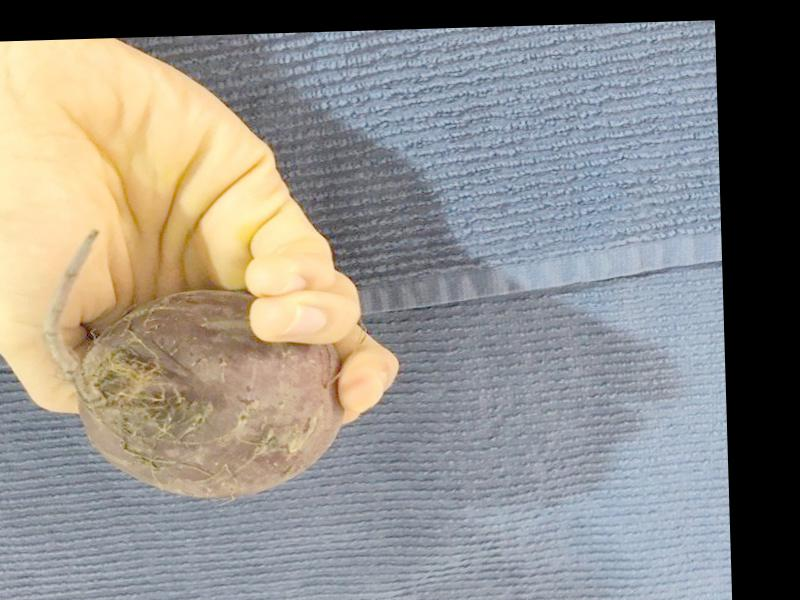Beet: (43, 218, 345, 500)
